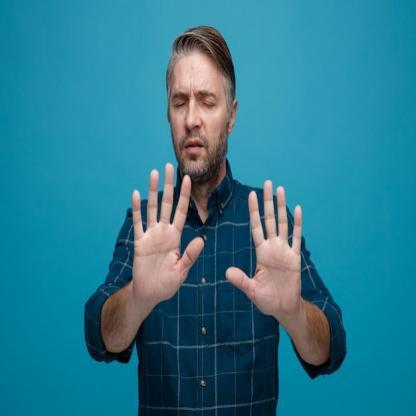stop: (223, 178, 304, 324), (128, 160, 206, 308)
